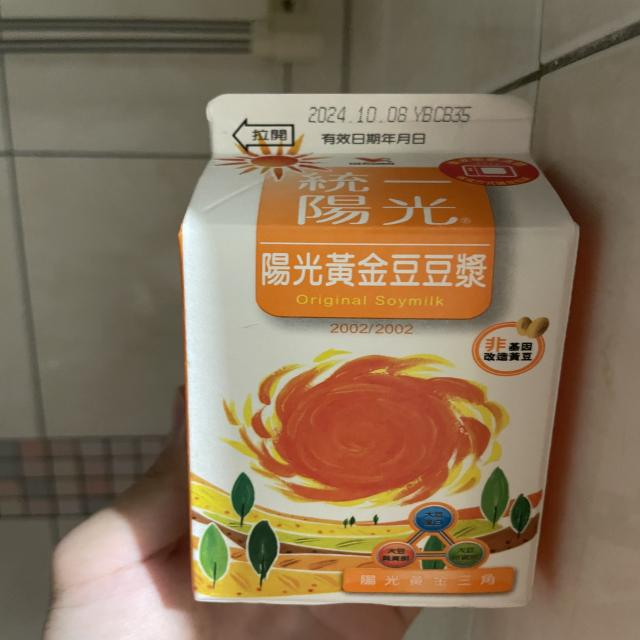TongYi_SoyMilk: (178, 84, 590, 608)
